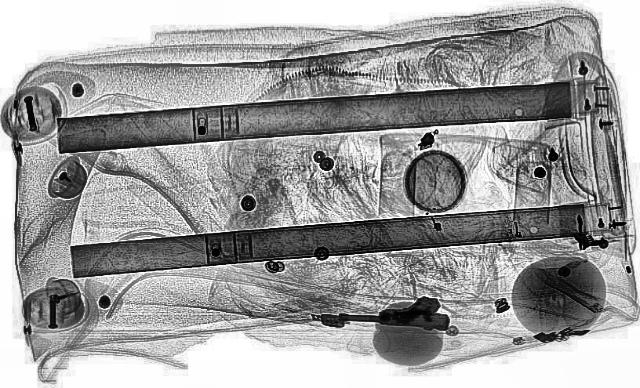Gun: (336, 296, 452, 332)
